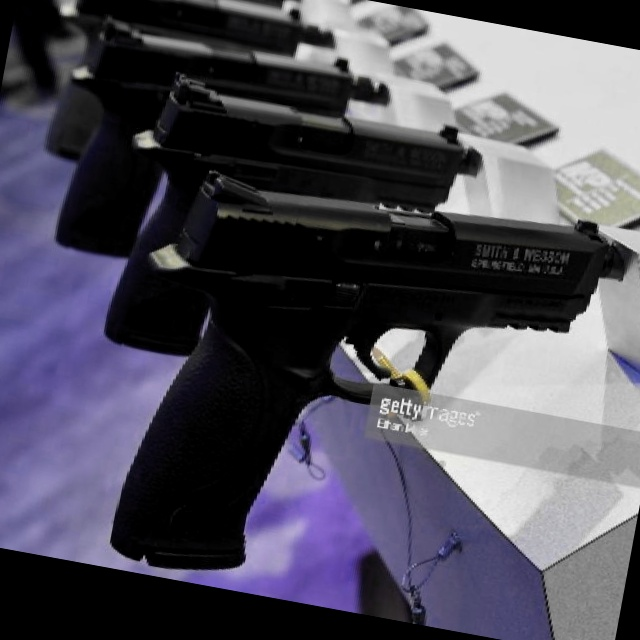gun: (105, 146, 585, 629), (143, 62, 487, 214), (71, 3, 382, 128)
